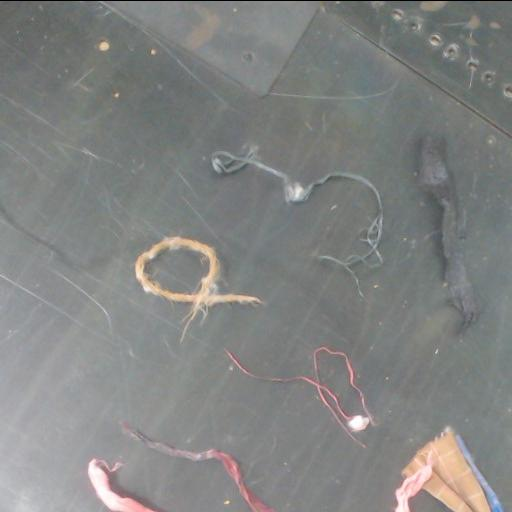cloth: (125, 425, 276, 512), (419, 137, 475, 324), (394, 426, 503, 512), (88, 459, 160, 512)
conveyor belt: (0, 1, 511, 512)
jute: (135, 236, 261, 339)
thread: (212, 146, 382, 295), (266, 346, 372, 440)
